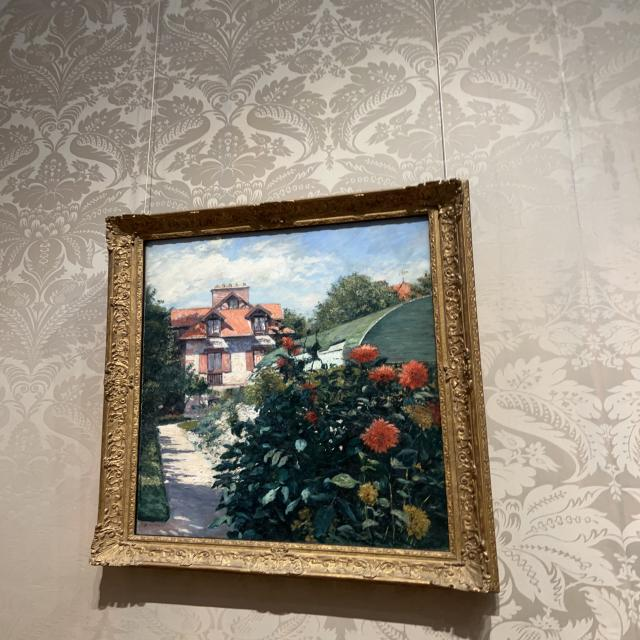summer: (136, 216, 448, 553)
